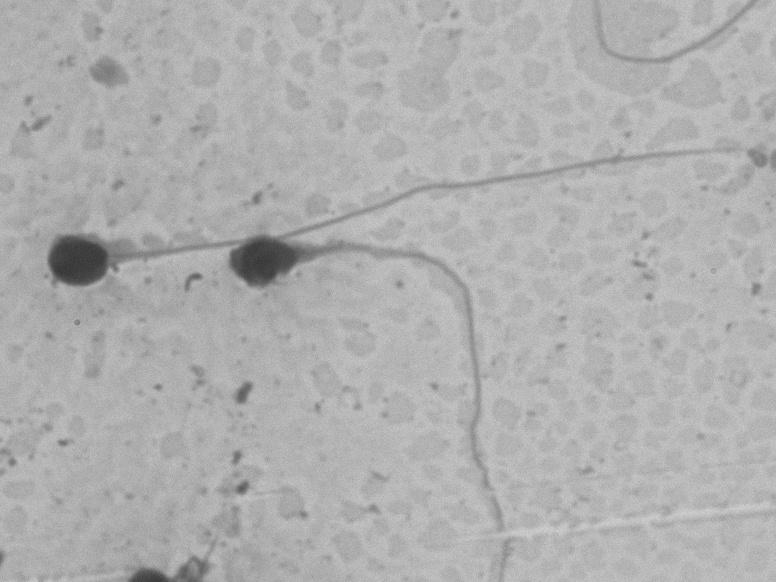Abnormal: (30, 133, 746, 299), (212, 227, 534, 563)
